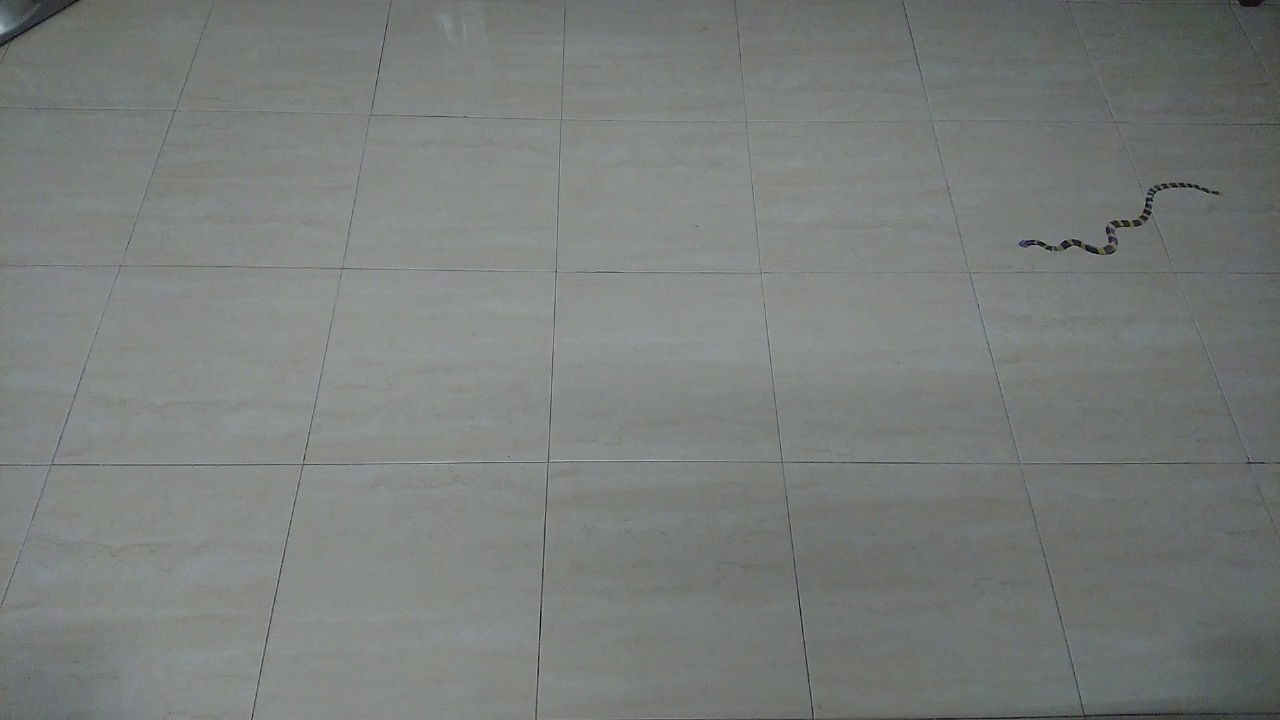snake: (1003, 170, 1238, 272)
